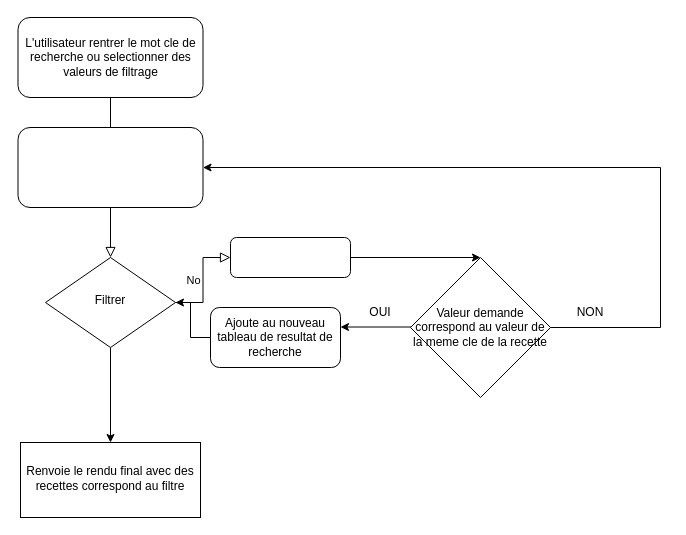
Some shapes in this 686 by 535 pixel diagram are drawn without their labels. Each missing label, with the box of its shape:
Pour chaque valeur de tri: (230, 236, 350, 278)
Recuperation du tableau avec toutes les donnees des recettes: (17, 126, 203, 208)
